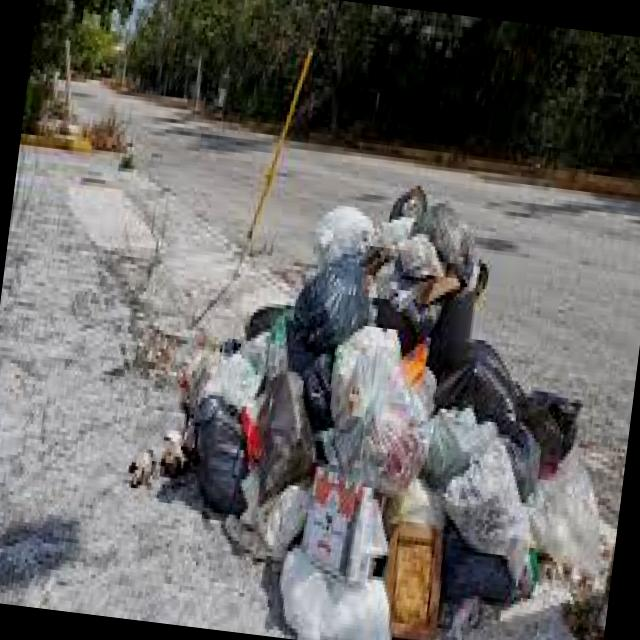garbage: (161, 162, 602, 640)
